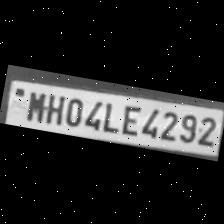0: (60, 92, 84, 126)
2: (194, 111, 218, 146), (156, 106, 178, 141)
4: (80, 93, 106, 130), (138, 103, 162, 138)
9: (174, 108, 198, 142)
E: (115, 99, 142, 136)
H: (38, 88, 64, 125)
L: (96, 96, 119, 132)
M: (21, 86, 45, 122)
